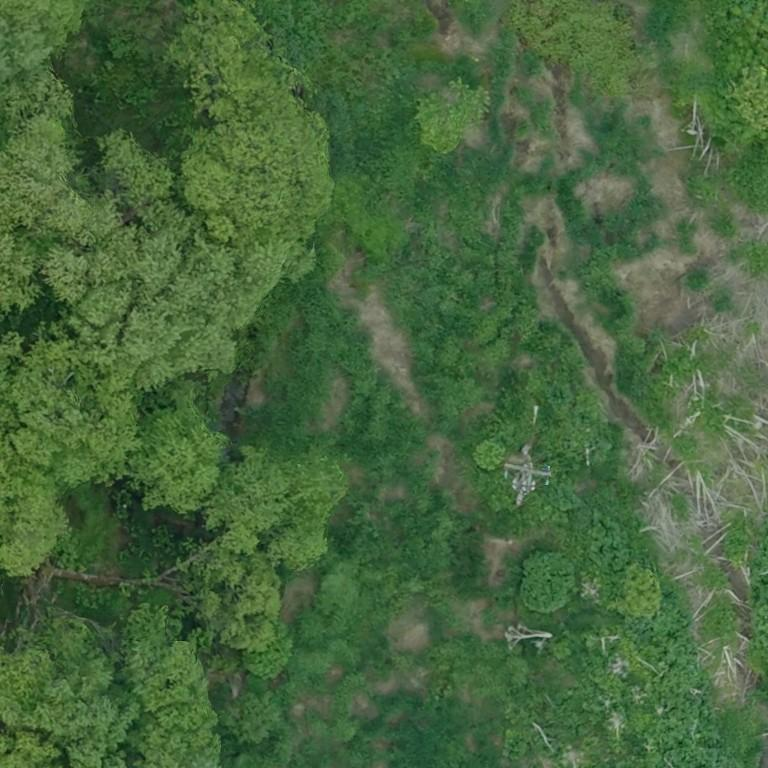hogweed: (624, 582, 742, 767), (588, 514, 632, 570)
